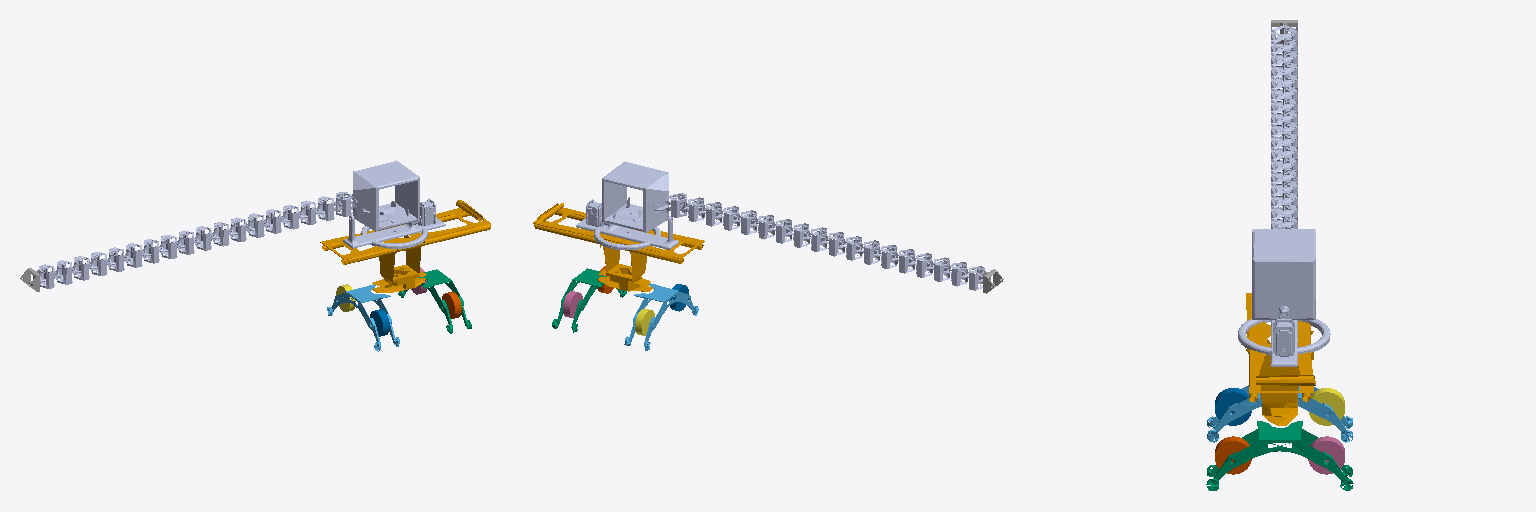
--- What the picture shows (computed from the rendered views, not written in the file) ---
The picture shows the robot from 3 angles, left to right: view 1: azimuth 30°, elevation 25°; view 2: azimuth 150°, elevation 25°; view 3: azimuth 270°, elevation 25°; orthographic projection.
Robot: prisma_snake — 31 links, 30 joints (20 revolute, 5 continuous, 5 fixed); root link uav_link; default pose: all joints at 0.
Links seen in each view (by area): view 1: uav_link, LMotor, LFrame, Rover_1, Rover_2; view 2: uav_link, LMotor, LFrame, Rover_1, Rover_2; view 3: LMotor, uav_link, Rover_2, LFrame, Rover_1, Wheel_dx_2, Wheel_sx_1, Wheel_sx_2, Wheel_dx_1.
Link boxes in pixels (x1,y1,x2,y2): uav_link: (320, 200, 490, 292); LMotor: (352, 160, 419, 231); LFrame: (343, 198, 445, 248); Rover_1: (327, 284, 399, 351); Rover_2: (398, 269, 471, 333); uav_link: (533, 203, 704, 291); LMotor: (602, 161, 668, 232); LFrame: (576, 199, 678, 249); Rover_1: (624, 283, 698, 350); Rover_2: (552, 268, 626, 332); LMotor: (1252, 229, 1315, 319); uav_link: (1246, 293, 1315, 425); Rover_2: (1206, 421, 1353, 490); LFrame: (1238, 306, 1330, 366); Rover_1: (1207, 385, 1352, 442); Wheel_dx_2: (1308, 436, 1344, 474); Wheel_sx_1: (1215, 388, 1251, 425); Wheel_sx_2: (1215, 436, 1251, 474); Wheel_dx_1: (1308, 388, 1344, 425).
Bounding box of the posed robot: 1.37 × 0.2765 × 0.4319 m (x, y, z).
Meshes: 10 distinct files referenced, 25 mesh visuals loaded (9 binary STL); not drawn: 1 (reference not matched to a file when rendering).

URDF robot description (prisma_snake):
<?xml version="1.0" encoding="utf-8"?>
<!-- =================================================================================== -->
<!-- |    This document was autogenerated by xacro from prisma_snake.xacro             | -->
<!-- |    EDITING THIS FILE BY HAND IS NOT RECOMMENDED                                 | -->
<!-- =================================================================================== -->
<!--Generates a urdf from the macro in kr120r2500pro_macro.xacro -->
<robot name="prisma_snake">
  <gazebo reference="camera_rgb_frame">
    <sensor name="$depth_camera" type="depth">
      <always_on>true</always_on>
      <update_rate>5.0</update_rate>
      <camera>
        <horizontal_fov>1.04</horizontal_fov>
        <!-- fov = filed of view 1.04-->
        <image>
          <format>L8</format>
          <width>320</width>
          <height>240</height>
        </image>
        <clip>
          <near>0.1</near>
          <far>2</far>
        </clip>
      </camera>
      <plugin filename="libgazebo_ros_openni_kinect.so" name="depth_camera_plugin">
        <alwaysOn>true</alwaysOn>
        <baseline>0.2</baseline>
        <updateRate>5.0</updateRate>
        <cameraName>depth_camera</cameraName>
        <imageTopicName>depth_camera/image_raw</imageTopicName>
        <cameraInfoTopicName>depth_camera/camera_info</cameraInfoTopicName>
        <depthImageTopicName>depth/disparity</depthImageTopicName>
        <depthImageCameraInfoTopicName>depth/camera_info</depthImageCameraInfoTopicName>
        <pointCloudTopicName>depth/points</pointCloudTopicName>
        <frameName>camera_rgb_optical_frame</frameName>
        <pointCloudCutoff>0.5</pointCloudCutoff>
        <pointCloudCutoffMax>3.0</pointCloudCutoffMax>
        <distortionK1>0.0</distortionK1>
        <distortionK2>0.0</distortionK2>
        <distortionK3>0.0</distortionK3>
        <distortionT1>0.0</distortionT1>
        <distortionT2>0.0</distortionT2>
      </plugin>
    </sensor>
  </gazebo>
  <!-- in kg-->
  <!-- in kg-->
  <!-- LINKS -->
  <!-- base link-->
  <!--
	<link name="world" />
 	-->
  <link name="uav_link">
    <inertial>
      <!--
		<origin rpy="0 0 0" xyz="0.2979303555193108 2.625110129346654e-07 0.31875747926595327"/>
		-->
      <origin rpy="0 0 0" xyz="0 0 0"/>
      <mass value="2.8"/>
      <inertia ixx="0.108" ixy="0.0" ixz="0.0" iyy="0.108" iyz="0.0" izz="0.108"/>
    </inertial>
    <visual>
      <origin rpy="0 0 0" xyz="0 0 0"/>
      <geometry>
        <mesh filename="package://prisma_snake_support_gazebo/meshes/drone_no_prop_no_sup_cu.stl" scale="0.0001 0.0001 0.0001"/>
      </geometry>
      <material name="silver"/>
    </visual>
    <collision>
      <origin rpy="0 0 0" xyz="0 0 0"/>
      <geometry>
        <mesh filename="package://prisma_snake_support_gazebo/meshes/drone_no_prop_no_sup_cu.stl" scale="0.0001 0.0001 0.0001"/>
      </geometry>
    </collision>
  </link>
  <link name="Rover_1">
    <inertial>
      <origin rpy="0 0 0" xyz="0 0 0"/>
      <mass value="1.2"/>
      <inertia ixx="0.01" ixy="0.0" ixz="0" iyy="0.01" iyz="0" izz="0.01"/>
    </inertial>
    <visual>
      <origin rpy="0 0 0" xyz="-0.2506 0.0 -0.1755"/>
      <geometry>
        <mesh filename="package://prisma_snake_support_gazebo/meshes/Rover_1_cu.stl" scale="0.001 0.001 0.001"/>
      </geometry>
      <material name="silver"/>
    </visual>
    <collision>
      <origin rpy="0 0 0" xyz="-0.2506 0.0 -0.1755"/>
      <geometry>
        <mesh filename="package://prisma_snake_support_gazebo/meshes/Rover_1_cu.stl" scale="0.001 0.001 0.001"/>
      </geometry>
      <contact_coefficients>
        <mu>0.1</mu>
        <kp>0.1</kp>
        <kd>0.1</kd>
      </contact_coefficients>
    </collision>
  </link>
  <link name="Rover_2">
    <inertial>
      <origin rpy="0 0 0" xyz="0 0 0"/>
      <mass value="1.2"/>
      <inertia ixx="0.01" ixy="0.0" ixz="0" iyy="0.01" iyz="0" izz="0.01"/>
    </inertial>
    <visual>
      <origin rpy="0 0 0" xyz="-0.3706 0.0 -0.1755"/>
      <geometry>
        <mesh filename="package://prisma_snake_support_gazebo/meshes/Rover_2_cu.stl" scale="0.001 0.001 0.001"/>
      </geometry>
      <material name="silver"/>
    </visual>
    <collision>
      <origin rpy="0 0 0" xyz="-0.3706 0.0 -0.1755"/>
      <geometry>
        <mesh filename="package://prisma_snake_support_gazebo/meshes/Rover_2_cu.stl" scale="0.001 0.001 0.001"/>
      </geometry>
      <!--
    <contact_coefficients>
          <mu>0.1</mu>
          <kp>0.1</kp>
          <kd>0.1</kd>
    </contact_coefficients>
 -->
    </collision>
  </link>
  <joint name="JointRoverFront" type="fixed">
    <origin rpy="0 0 0" xyz="-0.06 0.0 -0.07"/>
    <parent link="uav_link"/>
    <child link="Rover_1"/>
    <axis xyz="-0.0 -0.0 1.0"/>
  </joint>
  <joint name="JointRoverRetro" type="fixed">
    <origin rpy="0 0 0" xyz="0.06 0.0 -0.07"/>
    <parent link="uav_link"/>
    <child link="Rover_2"/>
    <axis xyz="-0.0 -0.0 1.0"/>
  </joint>
  <link name="Wheel_dx_1">
    <inertial>
      <origin rpy="1.57 0 1.57" xyz="-0.025 0.0 0"/>
      <mass value="1.35"/>
      <inertia ixx="0.0008" ixy="0.0" ixz="0.0" iyy="0.0008" iyz="0.0" izz="0.0008"/>
    </inertial>
    <visual>
      <origin rpy="1.57 0 1.57" xyz="-0.025 0.0 0"/>
      <geometry>
        <cylinder length="0.02" radius="0.035"/>
      </geometry>
      <material name="silver"/>
    </visual>
    <collision>
      <origin rpy="1.57 0 1.57" xyz="-0.025 0.0 0"/>
      <geometry>
        <cylinder length="0.02" radius="0.035"/>
      </geometry>
    </collision>
  </link>
  <joint name="JointWheel_F_sx" type="continuous">
    <limit effort="10000.0" lower="-1000" upper="1000" velocity="2000.0"/>
    <origin rpy="0 0 0" xyz="-0.024 0.087805 -0.043358"/>
    <parent link="Rover_1"/>
    <child link="Wheel_dx_1"/>
    <axis xyz="-1.0 -0.0 -0.0"/>
  </joint>
  <link name="Wheel_sx_1">
    <inertial>
      <origin rpy="1.57 0 1.57" xyz="-0.025 0.0 0"/>
      <mass value="1.35"/>
      <inertia ixx="0.0008" ixy="0.0" ixz="0.0" iyy="0.0008" iyz="0.0" izz="0.0008"/>
    </inertial>
    <visual>
      <origin rpy="1.57 0 1.57" xyz="-0.025 0.0 0"/>
      <geometry>
        <cylinder length="0.02" radius="0.035"/>
      </geometry>
      <material name="silver"/>
    </visual>
    <collision>
      <origin rpy="1.57 0 1.57" xyz="-0.025 0.0 0"/>
      <geometry>
        <cylinder length="0.02" radius="0.035"/>
      </geometry>
    </collision>
  </link>
  <joint name="JointWheel_F_dx" type="continuous">
    <limit effort="10000.0" lower="-1000" upper="1000" velocity="2000.0"/>
    <origin rpy="0 0 0" xyz="-0.024 -0.087805 -0.043358"/>
    <parent link="Rover_1"/>
    <child link="Wheel_sx_1"/>
    <axis xyz="-1.0 0.0 0.0"/>
  </joint>
  <link name="Wheel_sx_2">
    <inertial>
      <origin rpy="1.57 0 1.57" xyz="-0.025 0.0 0"/>
      <mass value="1.35"/>
      <inertia ixx="0.0008" ixy="0.0" ixz="0.0" iyy="0.0008" iyz="0.0" izz="0.0008"/>
    </inertial>
    <visual>
      <origin rpy="1.57 0 1.57" xyz="-0.025 0.0 0"/>
      <geometry>
        <cylinder length="0.02" radius="0.035"/>
      </geometry>
      <material name="silver"/>
    </visual>
    <collision>
      <origin rpy="1.57 0 1.57" xyz="-0.025 0.0 0"/>
      <geometry>
        <cylinder length="0.02" radius="0.035"/>
      </geometry>
    </collision>
  </link>
  <link name="Wheel_dx_2">
    <inertial>
      <origin rpy="0 0 0" xyz="-0.024031420359043487 -3.466334117102621e-07 4.034042055706122e-06"/>
      <mass value="1.35"/>
      <inertia ixx="0.0008" ixy="0.0" ixz="0.0" iyy="0.0008" iyz="0.0" izz="0.0008"/>
    </inertial>
    <visual>
      <origin rpy="1.57 0 1.57" xyz="-0.025 0.0 0"/>
      <geometry>
        <cylinder length="0.02" radius="0.035"/>
      </geometry>
      <material name="silver"/>
    </visual>
    <collision>
      <origin rpy="1.57 0 1.57" xyz="-0.02 0.0 0"/>
      <geometry>
        <cylinder length="0.02" radius="0.035"/>
      </geometry>
    </collision>
  </link>
  <joint name="JointWheel_R_dx" type="continuous">
    <limit effort="10000.0" lower="-1000" upper="1000" velocity="2000.0"/>
    <origin rpy="0 0 0" xyz="0.0722 0.087805 -0.043358"/>
    <parent link="Rover_2"/>
    <child link="Wheel_dx_2"/>
    <axis xyz="-1.0 -0.0 -0.0"/>
  </joint>
  <joint name="JointWheel_R_sx" type="continuous">
    <limit effort="10000.0" lower="-1000" upper="1000" velocity="2000.0"/>
    <origin rpy="0 0 0" xyz="0.0722 -0.087805 -0.043358"/>
    <parent link="Rover_2"/>
    <child link="Wheel_sx_2"/>
    <axis xyz="-1.0 0.0 0.0"/>
  </joint>
  <link name="base_footprint">
	</link>
  <joint name="base_footprint_joint" type="fixed">
    <origin rpy="0 0 0" xyz="0.0 0.0 -0.3"/>
    <parent link="uav_link"/>
    <child link="base_footprint"/>
  </joint>
  <link name="base_link">
    <inertial>
      <origin rpy="0 0 0" xyz="0.0 0.0 0.0"/>
      <mass value="0.01"/>
      <inertia ixx="0.01" ixy="0" ixz="0" iyy="0.01" iyz="0" izz="0.01"/>
    </inertial>
    <visual>
      <origin rpy="0 0 0" xyz="0 0 0"/>
      <geometry>
        <mesh filename="package://prisma_snake_support_gazebo/meshes/base_link.STL"/>
      </geometry>
      <material name="">
        <color rgba="0.792156862745098 0.819607843137255 0.933333333333333 1"/>
      </material>
    </visual>
    <collision>
      <origin rpy="0.00 0.00 0.00" xyz="0.00 0.00 0.00"/>
      <geometry>
        <mesh filename="package://prisma_snake_support_gazebo/meshes/base_link.STL"/>
      </geometry>
    </collision>
  </link>
  <joint name="base_footprint_base_link_joint" type="fixed">
    <origin rpy="3.14159 0 1.57079" xyz="-0.05 0.0  0.455"/>
    <parent link="base_footprint"/>
    <child link="base_link"/>
  </joint>
  <!--
	<joint
    name="uav_joint"
    type="fixed">
    <origin
      xyz="-0.05 0.0  0.155"
      rpy="3.1415 0.0 1.57" />
    <parent
      link="uav_link" />
    <child
      link="base_link" />
   </joint>
-->
  <link name="LFrame">
    <inertial>
      <origin rpy="0.00 0.00 0.00" xyz="-0.248469510078303 -0.563614377028206 0.1"/>
      <mass value="0.05180236101214"/>
      <inertia ixx="0.0" ixy="0.0" ixz="0.0" iyy="0.0" iyz="0.0" izz="0.0"/>
    </inertial>
    <visual>
      <origin rpy="0 0 0" xyz="0 0 0"/>
      <geometry>
        <mesh filename="package://prisma_snake_support_gazebo/meshes/LFrame.STL"/>
      </geometry>
      <material name="">
        <color rgba="0.792156862745098 0.819607843137255 0.933333333333333 1"/>
      </material>
    </visual>
    <collision>
      <origin rpy="0 0 0" xyz="0 0 0"/>
      <geometry>
        <mesh filename="package://prisma_snake_support_gazebo/meshes/LFrame.STL"/>
      </geometry>
    </collision>
  </link>
  <joint name="JFrame" type="continuous">
    <origin rpy="-1.570796 0 -1.570796" xyz="0.00772822 0.0399874 0"/>
    <parent link="base_link"/>
    <child link="LFrame"/>
    <axis xyz="0 1 0"/>
    <limit effort="10" velocity="1.57"/>
  </joint>
  <link name="LMotor">
    <inertial>
      <origin rpy="0 0 0" xyz="-0.01 -0.04 -0.04"/>
      <mass value="0.254048214605011"/>
      <inertia ixx="0.001" ixy="0.0" ixz="0.0" iyy="0.001" iyz="0.0" izz="0.001"/>
    </inertial>
    <visual>
      <origin rpy="0 0 0" xyz="0 0 0"/>
      <geometry>
        <mesh filename="package://prisma_snake_support_gazebo/meshes/LMotor_cu.stl"/>
      </geometry>
      <material name="">
        <color rgba="0.792156862745098 0.819607843137255 0.933333333333333 1"/>
      </material>
    </visual>
    <collision>
      <origin rpy="0 0 0" xyz="0 0 0"/>
      <geometry>
        <mesh filename="package://prisma_snake_support_gazebo/meshes/LMotor_cu.stl"/>
      </geometry>
    </collision>
  </link>
  <joint name="JMotor" type="revolute">
    <origin rpy="1.570796 1.570796 -1.570796" xyz="0 0 0"/>
    <parent link="LFrame"/>
    <child link="LMotor"/>
    <axis xyz="0 0 1"/>
    <limit effort="10" lower="-1.5707963267949" upper="1.5707963267949" velocity="1.57"/>
  </joint>
  <link name="L1">
    <inertial>
      <origin rpy="0 0 0" xyz="0.0258999036432844 0.0239999454766124 0"/>
      <mass value="0.0209796269968244"/>
      <inertia ixx="0.0" ixy="0.0" ixz="0.0" iyy="0.0" iyz="0.0" izz="0.0"/>
    </inertial>
    <visual>
      <origin rpy="0 0 0" xyz="0 0 0"/>
      <geometry>
        <mesh filename="package://prisma_snake_support_gazebo/meshes/L1.STL"/>
      </geometry>
      <material name="">
        <color rgba="0.792156862745098 0.819607843137255 0.933333333333333 1"/>
      </material>
    </visual>
    <collision>
      <origin rpy="0 0 0" xyz="0 0 0"/>
      <geometry>
        <mesh filename="package://prisma_snake_support_gazebo/meshes/L1.STL"/>
      </geometry>
    </collision>
  </link>
  <joint name="J1" type="fixed">
    <origin rpy="3.14159 1.570796 0" xyz="0 -0.0224478 -0.127545"/>
    <parent link="LMotor"/>
    <child link="L1"/>
  </joint>
  <link name="L2">
    <inertial>
      <origin rpy="0 0 0" xyz="0.0258999036432844 0.0239999454766124 0"/>
      <mass value="0.02"/>
      <inertia ixx="0.0006" ixy="0" ixz="0" iyy="0.0006" iyz="0" izz="0.0006"/>
    </inertial>
    <visual>
      <origin rpy="0 0 0" xyz="0 0 0"/>
      <geometry>
        <mesh filename="package://prisma_snake_support_gazebo/meshes/L2_cu.stl"/>
      </geometry>
      <material name="">
        <color rgba="0.792156862745098 0.819607843137255 0.933333333333333 1"/>
      </material>
    </visual>
    <collision>
      <origin rpy="0 0 0" xyz="0 0 0"/>
      <geometry>
        <mesh filename="package://prisma_snake_support_gazebo/meshes/L2_cu.stl"/>
      </geometry>
    </collision>
  </link>
  <joint name="J2" type="revolute">
    <origin rpy="0 0 0" xyz="0.0525 0 0"/>
    <parent link="L1"/>
    <child link="L2"/>
    <axis xyz="0 1 0"/>
    <limit effort="10" lower="-0.993998967010373" upper="1.10039613538283" velocity="1.57"/>
  </joint>
  <link name="L3">
    <inertial>
      <origin rpy="0 0 0" xyz="0.0258999036432844 0.0239999454766124 0"/>
      <mass value="0.02"/>
      <inertia ixx="0.0006" ixy="0" ixz="0" iyy="0.0006" iyz="0" izz="0.0006"/>
    </inertial>
    <visual>
      <origin rpy="0 0 0" xyz="0 0 0"/>
      <geometry>
        <mesh filename="package://prisma_snake_support_gazebo/meshes/L2_cu.stl"/>
      </geometry>
      <material name="">
        <color rgba="0.792156862745098 0.819607843137255 0.933333333333333 1"/>
      </material>
    </visual>
    <collision>
      <origin rpy="0 0 0" xyz="0 0 0"/>
      <geometry>
        <mesh filename="package://prisma_snake_support_gazebo/meshes/L2_cu.stl"/>
      </geometry>
    </collision>
  </link>
  <joint name="J3" type="revolute">
    <origin rpy="0 0 0" xyz="0.0525 0 0"/>
    <parent link="L2"/>
    <child link="L3"/>
    <axis xyz="0 1 0"/>
    <limit effort="10" lower="-1.03792338949131" upper="1.05647171290189" velocity="1.57"/>
  </joint>
  <link name="L4">
    <inertial>
      <origin rpy="0 0 0" xyz="0.0258999036432844 0.0239999454766124 0"/>
      <mass value="0.02"/>
      <inertia ixx="0.0006" ixy="0" ixz="0" iyy="0.0006" iyz="0" izz="0.0006"/>
    </inertial>
    <visual>
      <origin rpy="0 0 0" xyz="0 0 0"/>
      <geometry>
        <mesh filename="package://prisma_snake_support_gazebo/meshes/L2_cu.stl"/>
      </geometry>
      <material name="">
        <color rgba="0.792156862745098 0.819607843137255 0.933333333333333 1"/>
      </material>
    </visual>
    <collision>
      <origin rpy="0 0 0" xyz="0 0 0"/>
      <geometry>
        <mesh filename="package://prisma_snake_support_gazebo/meshes/L2_cu.stl"/>
      </geometry>
    </collision>
  </link>
  <joint name="J4" type="revolute">
    <origin rpy="0 0 0" xyz="0.0525 0 0"/>
    <parent link="L3"/>
    <child link="L4"/>
    <axis xyz="0 1 0"/>
    <limit effort="10" lower="-1.04855844307021" upper="1.04583665932299" velocity="1.57"/>
  </joint>
  <link name="L5">
    <inertial>
      <origin rpy="0 0 0" xyz="0.0258999036432844 0.0239999454766124 0"/>
      <mass value="0.02"/>
      <inertia ixx="0.0006" ixy="0" ixz="0" iyy="0.0006" iyz="0" izz="0.0006"/>
    </inertial>
    <visual>
      <origin rpy="0 0 0" xyz="0 0 0"/>
      <geometry>
        <mesh filename="package://prisma_snake_support_gazebo/meshes/L2_cu.stl"/>
      </geometry>
      <material name="">
        <color rgba="0.792156862745098 0.819607843137255 0.933333333333333 1"/>
      </material>
    </visual>
    <collision>
      <origin rpy="0 0 0" xyz="0 0 0"/>
      <geometry>
        <mesh filename="package://prisma_snake_support_gazebo/meshes/L2_cu.stl"/>
      </geometry>
    </collision>
  </link>
  <joint name="J5" type="revolute">
    <origin rpy="0 0 0" xyz="0.0525 0 0"/>
    <parent link="L4"/>
    <child link="L5"/>
    <axis xyz="0 1 0"/>
    <limit effort="10" lower="-1.04698399748418" upper="1.04741110490902" velocity="1.57"/>
  </joint>
  <link name="L6">
    <inertial>
      <origin rpy="0 0 0" xyz="0.0258999036432844 0.0239999454766124 0"/>
      <mass value="0.02"/>
      <inertia ixx="0.0006" ixy="0" ixz="0" iyy="0.0006" iyz="0" izz="0.0006"/>
    </inertial>
    <visual>
      <origin rpy="0 0 0" xyz="0 0 0"/>
      <geometry>
        <mesh filename="package://prisma_snake_support_gazebo/meshes/L2_cu.stl"/>
      </geometry>
      <material name="">
        <color rgba="0.792156862745098 0.819607843137255 0.933333333333333 1"/>
      </material>
    </visual>
    <collision>
      <origin rpy="0 0 0" xyz="0 0 0"/>
      <geometry>
        <mesh filename="package://prisma_snake_support_gazebo/meshes/L2_cu.stl"/>
      </geometry>
    </collision>
  </link>
  <joint name="J6" type="revolute">
    <origin rpy="0 0 0" xyz="0.0525 0 0"/>
    <parent link="L5"/>
    <child link="L6"/>
    <axis xyz="0 1 0"/>
    <limit effort="10" lower="-1.04721945595772" upper="1.04717564643548" velocity="1.57"/>
  </joint>
  <link name="L7">
    <inertial>
      <origin rpy="0 0 0" xyz="0.0258999036432844 0.0239999454766124 0"/>
      <mass value="0.02"/>
      <inertia ixx="0.0006" ixy="0" ixz="0" iyy="0.0006" iyz="0" izz="0.0006"/>
    </inertial>
    <visual>
      <origin rpy="0 0 0" xyz="0 0 0"/>
      <geometry>
        <mesh filename="package://prisma_snake_support_gazebo/meshes/L2_cu.stl"/>
      </geometry>
      <material name="">
        <color rgba="0.792156862745098 0.819607843137255 0.933333333333333 1"/>
      </material>
    </visual>
    <collision>
      <origin rpy="0 0 0" xyz="0 0 0"/>
      <geometry>
        <mesh filename="package://prisma_snake_support_gazebo/meshes/L2_cu.stl"/>
      </geometry>
    </collision>
  </link>
  <joint name="J7" type="revolute">
    <origin rpy="0 0 0" xyz="0.0525 0 0"/>
    <parent link="L6"/>
    <child link="L7"/>
    <axis xyz="0 1 0"/>
    <limit effort="10" lower="-1.04719556326231" upper="1.04719953913089" velocity="1.57"/>
  </joint>
  <link name="L8">
    <inertial>
      <origin rpy="0 0 0" xyz="0.0258999036432844 0.0239999454766124 0"/>
      <mass value="0.02"/>
      <inertia ixx="0.0006" ixy="0" ixz="0" iyy="0.0006" iyz="0" izz="0.0006"/>
    </inertial>
    <visual>
      <origin rpy="0 0 0" xyz="0 0 0"/>
      <geometry>
        <mesh filename="package://prisma_snake_support_gazebo/meshes/L2_cu.stl"/>
      </geometry>
      <material name="">
        <color rgba="0.792156862745098 0.819607843137255 0.933333333333333 1"/>
      </material>
    </visual>
    <collision>
      <origin rpy="0 0 0" xyz="0 0 0"/>
      <geometry>
        <mesh filename="package://prisma_snake_support_gazebo/meshes/L2_cu.stl"/>
      </geometry>
    </collision>
  </link>
  <joint name="J8" type="revolute">
    <origin rpy="0 0 0" xyz="0.0525 0 0"/>
    <parent link="L7"/>
    <child link="L8"/>
    <axis xyz="0 1 0"/>
    <limit effort="10" lower="-1.04719770565085" upper="1.04719739674235" velocity="1.57"/>
  </joint>
  <link name="L9">
    <inertial>
      <origin rpy="0 0 0" xyz="0.0258999036432844 0.0239999454766124 0"/>
      <mass value="0.02"/>
      <inertia ixx="0.0006" ixy="0" ixz="0" iyy="0.0006" iyz="0" izz="0.0006"/>
    </inertial>
    <visual>
      <origin rpy="0 0 0" xyz="0 0 0"/>
      <geometry>
        <mesh filename="package://prisma_snake_support_gazebo/meshes/L2_cu.stl"/>
      </geometry>
      <material name="">
        <color rgba="0.792156862745098 0.819607843137255 0.933333333333333 1"/>
      </material>
    </visual>
    <collision>
      <origin rpy="0 0 0" xyz="0 0 0"/>
      <geometry>
        <mesh filename="package://prisma_snake_support_gazebo/meshes/L2_cu.stl"/>
      </geometry>
    </collision>
  </link>
  <joint name="J9" type="revolute">
    <origin rpy="0 0 0" xyz="0.0525 0 0"/>
    <parent link="L8"/>
    <child link="L9"/>
    <axis xyz="0 1 0"/>
    <limit effort="10" lower="-1.04719754030642" upper="1.04719756208678" velocity="1.57"/>
  </joint>
  <link name="L10">
    <inertial>
      <origin rpy="0 0 0" xyz="0.0258999036432844 0.0239999454766124 0"/>
      <mass value="0.02"/>
      <inertia ixx="0.0006" ixy="0" ixz="0" iyy="0.0006" iyz="0" izz="0.0006"/>
    </inertial>
    <visual>
      <origin rpy="0 0 0" xyz="0 0 0"/>
      <geometry>
        <mesh filename="package://prisma_snake_support_gazebo/meshes/L2_cu.stl"/>
      </geometry>
      <material name="">
        <color rgba="0.792156862745098 0.819607843137255 0.933333333333333 1"/>
      </material>
    </visual>
    <collision>
      <origin rpy="0 0 0" xyz="0 0 0"/>
      <geometry>
        <mesh filename="package://prisma_snake_support_gazebo/meshes/L2_cu.stl"/>
      </geometry>
    </collision>
  </link>
  <joint name="J10" type="revolute">
    <origin rpy="0 0 0" xyz="0.0525 0 0"/>
    <parent link="L9"/>
    <child link="L10"/>
    <axis xyz="0 1 0"/>
    <limit effort="10" lower="-1.04719755188937" upper="1.04719755050383" velocity="1.57"/>
  </joint>
  <link name="L11">
    <inertial>
      <origin rpy="0 0 0" xyz="0.0258999036432844 0.0239999454766124 0"/>
      <mass value="0.02"/>
      <inertia ixx="0.0006" ixy="0" ixz="0" iyy="0.0006" iyz="0" izz="0.0006"/>
    </inertial>
    <visual>
      <origin rpy="0 0 0" xyz="0 0 0"/>
      <geometry>
        <mesh filename="package://prisma_snake_support_gazebo/meshes/L2_cu.stl"/>
      </geometry>
      <material name="">
        <color rgba="0.792156862745098 0.819607843137255 0.933333333333333 1"/>
      </material>
    </visual>
    <collision>
      <origin rpy="0 0 0" xyz="0 0 0"/>
      <geometry>
        <mesh filename="package://prisma_snake_support_gazebo/meshes/L2_cu.stl"/>
      </geometry>
    </collision>
  </link>
  <joint name="J11" type="revolute">
    <origin rpy="0 0 0" xyz="0.0525 0 0"/>
    <parent link="L10"/>
    <child link="L11"/>
    <axis xyz="0 1 0"/>
    <limit effort="10" lower="-1.04719755115998" upper="1.04719755123322" velocity="1.57"/>
  </joint>
  <link name="L12">
    <inertial>
      <origin rpy="0 0 0" xyz="0.0258999036432844 0.0239999454766124 0"/>
      <mass value="0.02"/>
      <inertia ixx="0.0006" ixy="0" ixz="0" iyy="0.0006" iyz="0" izz="0.0006"/>
    </inertial>
    <visual>
      <origin rpy="0 0 0" xyz="0 0 0"/>
      <geometry>
        <mesh filename="package://prisma_snake_support_gazebo/meshes/L2_cu.stl"/>
      </geometry>
      <material name="">
        <color rgba="0.792156862745098 0.819607843137255 0.933333333333333 1"/>
      </material>
    </visual>
    <collision>
      <origin rpy="0 0 0" xyz="0 0 0"/>
      <geometry>
        <mesh filename="package://prisma_snake_support_gazebo/meshes/L2_cu.stl"/>
      </geometry>
    </collision>
  </link>
  <joint name="J12" type="revolute">
    <origin rpy="0 0 0" xyz="0.0525 0 0"/>
    <parent link="L11"/>
    <child link="L12"/>
    <axis xyz="0 1 0"/>
    <limit effort="10" lower="-1.04719755119664" upper="1.04719755119656" velocity="1.57"/>
  </joint>
  <link name="L13">
    <inertial>
      <origin rpy="0 0 0" xyz="0.0258999036432844 0.0239999454766124 0"/>
      <mass value="0.02"/>
      <inertia ixx="0.0006" ixy="0" ixz="0" iyy="0.0006" iyz="0" izz="0.0006"/>
    </inertial>
    <visual>
      <origin rpy="0 0 0" xyz="0 0 0"/>
      <geometry>
        <mesh filename="package://prisma_snake_support_gazebo/meshes/L2_cu.stl"/>
      </geometry>
      <material name="">
        <color rgba="0.792156862745098 0.819607843137255 0.933333333333333 1"/>
      </material>
    </visual>
    <collision>
      <origin rpy="0 0 0" xyz="0 0 0"/>
      <geometry>
        <mesh filename="package://prisma_snake_support_gazebo/meshes/L2_cu.stl"/>
      </geometry>
    </collision>
  </link>
  <joint name="J13" type="revolute">
    <origin rpy="0 0 0" xyz="0.0525 0 0"/>
    <parent link="L12"/>
    <child link="L13"/>
    <axis xyz="0 1 0"/>
    <limit effort="10" lower="-1.04719755119646" upper="1.04719755119674" velocity="1.57"/>
  </joint>
  <link name="L14">
    <inertial>
      <origin rpy="0 0 0" xyz="0.0258999036432844 0.0239999454766124 0"/>
      <mass value="0.02"/>
      <inertia ixx="0.0006" ixy="0" ixz="0" iyy="0.0006" iyz="0" izz="0.0006"/>
    </inertial>
    <visual>
      <origin rpy="0 0 0" xyz="0 0 0"/>
      <geometry>
        <mesh filename="package://prisma_snake_support_gazebo/meshes/L2_cu.stl"/>
      </geometry>
      <material name="">
        <color rgba="0.792156862745098 0.819607843137255 0.933333333333333 1"/>
      </material>
    </visual>
    <collision>
      <origin rpy="0 0 0" xyz="0 0 0"/>
      <geometry>
        <mesh filename="package://prisma_snake_support_gazebo/meshes/L2_cu.stl"/>
      </geometry>
    </collision>
  </link>
  <joint name="J14" type="revolute">
    <origin rpy="0 0 0" xyz="0.0525 0 0"/>
    <parent link="L13"/>
    <child link="L14"/>
    <axis xyz="0 1 0"/>
    <limit effort="10" lower="-1.04719755119664" upper="1.04719755119656" velocity="1.57"/>
  </joint>
  <link name="L15">
    <inertial>
      <origin rpy="0 0 0" xyz="0.0258999036432844 0.0239999454766124 0"/>
      <mass value="0.02"/>
      <inertia ixx="0.0006" ixy="0" ixz="0" iyy="0.0006" iyz="0" izz="0.0006"/>
    </inertial>
    <visual>
      <origin rpy="0 0 0" xyz="0 0 0"/>
      <geometry>
        <mesh filename="package://prisma_snake_support_gazebo/meshes/L2_cu.stl"/>
      </geometry>
      <material name="">
        <color rgba="0.792156862745098 0.819607843137255 0.933333333333333 1"/>
      </material>
    </visual>
    <collision>
      <origin rpy="0 0 0" xyz="0 0 0"/>
      <geometry>
        <mesh filename="package://prisma_snake_support_gazebo/meshes/L2_cu.stl"/>
      </geometry>
    </collision>
  </link>
  <joint name="J15" type="revolute">
    <origin rpy="0 0 0" xyz="0.0525 0 0"/>
    <parent link="L14"/>
    <child link="L15"/>
    <axis xyz="0 1 0"/>
    <limit effort="10" lower="-1.04719755119646" upper="1.04719755119674" velocity="1.57"/>
  </joint>
  <link name="L16">
    <inertial>
      <origin rpy="0 0 0" xyz="0.0258999036432844 0.0239999454766124 0"/>
      <mass value="0.02"/>
      <inertia ixx="0.0006" ixy="0" ixz="0" iyy="0.0006" iyz="0" izz="0.0006"/>
    </inertial>
    <visual>
      <origin rpy="0 0 0" xyz="0 0 0"/>
      <geometry>
        <mesh filename="package://prisma_snake_support_gazebo/meshes/L2_cu.stl"/>
      </geometry>
      <material name="">
        <color rgba="0.792156862745098 0.819607843137255 0.933333333333333 1"/>
      </material>
    </visual>
    <collision>
      <origin rpy="0 0 0" xyz="0 0 0"/>
      <geometry>
        <mesh filename="package://prisma_snake_support_gazebo/meshes/L2_cu.stl"/>
      </geometry>
    </collision>
  </link>
  <joint name="J16" type="revolute">
    <origin rpy="0 0 0" xyz="0.0525 0 0"/>
    <parent link="L15"/>
    <child link="L16"/>
    <axis xyz="0 1 0"/>
    <limit effort="10" lower="-1.04719755119664" upper="1.04719755119656" velocity="1.57"/>
  </joint>
  <link name="L17">
    <inertial>
      <origin rpy="0 0 0" xyz="0.0258999036432844 0.0239999454766124 0"/>
      <mass value="0.02"/>
      <inertia ixx="0.0006" ixy="0" ixz="0" iyy="0.0006" iyz="0" izz="0.0006"/>
    </inertial>
    <visual>
      <origin rpy="0 0 0" xyz="0 0 0"/>
      <geometry>
        <mesh filename="package://prisma_snake_support_gazebo/meshes/L2_cu.stl"/>
      </geometry>
      <material name="">
        <color rgba="0.792156862745098 0.819607843137255 0.933333333333333 1"/>
      </material>
    </visual>
    <collision>
      <origin rpy="0 0 0" xyz="0 0 0"/>
      <geometry>
        <mesh filename="package://prisma_snake_support_gazebo/meshes/L2_cu.stl"/>
      </geometry>
    </collision>
  </link>
  <joint name="J17" type="revolute">
    <origin rpy="0 0 0" xyz="0.0525 0 0"/>
    <parent link="L16"/>
    <child link="L17"/>
    <axis xyz="0 1 0"/>
    <limit effort="10" lower="-1.04719755119646" upper="1.04719755119674" velocity="1.57"/>
  </joint>
  <link name="L18">
    <inertial>
      <origin rpy="0 0 0" xyz="0.0258999036432844 0.0239999454766124 0"/>
      <mass value="0.02"/>
      <inertia ixx="0.0006" ixy="0" ixz="0" iyy="0.0006" iyz="0" izz="0.0006"/>
    </inertial>
    <visual>
      <origin rpy="0 0 0" xyz="0 0 0"/>
      <geometry>
        <mesh filename="package://prisma_snake_support_gazebo/meshes/L2_cu.stl"/>
      </geometry>
      <material name="">
        <color rgba="0.792156862745098 0.819607843137255 0.933333333333333 1"/>
      </material>
    </visual>
    <collision>
      <origin rpy="0 0 0" xyz="0 0 0"/>
      <geometry>
        <mesh filename="package://prisma_snake_support_gazebo/meshes/L2_cu.stl"/>
      </geometry>
    </collision>
  </link>
  <joint name="J18" type="revolute">
    <origin rpy="0 0 0" xyz="0.0525 0 0"/>
    <parent link="L17"/>
    <child link="L18"/>
    <axis xyz="0 1 0"/>
    <limit effort="10" lower="-1.04719755119664" upper="1.04719755119656" velocity="1.57"/>
  </joint>
  <link name="L20">
    <inertial>
      <origin rpy="0 0 0" xyz="0.0258999036432844 0.0239999454766124 0"/>
      <mass value="0.02"/>
      <inertia ixx="0.0006" ixy="0" ixz="0" iyy="0.0006" iyz="0" izz="0.0006"/>
    </inertial>
    <visual>
      <origin rpy="0 0 0" xyz="0 0 0"/>
      <geometry>
        <mesh filename="package://prisma_snake_support_gazebo/meshes/L20.STL"/>
      </geometry>
      <material name="">
        <color rgba="0.698039215686274 0.698039215686274 0.698039215686274 1"/>
      </material>
    </visual>
    <collision>
      <origin rpy="0 0 0" xyz="0 0 0"/>
      <geometry>
        <mesh filename="package://prisma_snake_support_gazebo/meshes/L20.STL"/>
      </geometry>
    </collision>
  </link>
  <joint name="J20" type="revolute">
    <origin rpy="3.14159 -1.570796 -3.14159" xyz="0.0525 0 0"/>
    <parent link="L18"/>
    <child link="L20"/>
    <axis xyz="0 1 0"/>
    <limit effort="10" lower="-1.07730497228435" upper="1.01709013010885" velocity="1.57"/>
  </joint>
  <!--
		xyz="0.000801942613792017 3.73115540755475E-08 -0.00846677202059798"
		-->
  <link name="Probe">
    <inertial>
      <origin rpy="0 0 0" xyz="0.0 0 0"/>
      <mass value="0.02"/>
      <inertia ixx="0.0006" ixy="0" ixz="0" iyy="0.0006" iyz="0" izz="0.0006"/>
    </inertial>
    <visual>
      <origin rpy="0 0 0" xyz="0 0 0"/>
      <geometry>
        <mesh filename="package://prisma_snake_support_gazebo/meshes/Probe.STL"/>
      </geometry>
      <material name="">
        <color rgba="0.792156862745098 0.819607843137255 0.933333333333333 1"/>
      </material>
    </visual>
    <collision>
      <origin rpy="0 0 0" xyz="0 0 0"/>
      <geometry>
        <mesh filename="package://prisma_snake_support_gazebo/meshes/Probe.STL"/>
      </geometry>
    </collision>
  </link>
  <joint name="Probe_joint" type="revolute">
    <origin rpy="0 0 0" xyz="0 0.0239999 -0.033"/>
    <parent link="L20"/>
    <child link="Probe"/>
    <axis xyz="1 0 0"/>
    <limit effort="10" lower="-1.39626340159547" upper="1.39626340159547" velocity="1.57"/>
  </joint>
  <transmission name="tran1">
    <type>transmission_interface/SimpleTransmission</type>
    <joint name="JFrame">
      <hardwareInterface>hardware_interface/PositionJointInterface</hardwareInterface>
    </joint>
    <actuator name="motor1">
      <mechanicalReduction>1</mechanicalReduction>
    </actuator>
  </transmission>
  <transmission name="tran1">
    <type>transmission_interface/SimpleTransmission</type>
    <joint name="JMotor">
      <hardwareInterface>hardware_interface/PositionJointInterface</hardwareInterface>
    </joint>
    <actuator name="motor1">
      <mechanicalReduction>1</mechanicalReduction>
    </actuator>
  </transmission>
  <transmission name="tran1">
    <type>transmission_interface/SimpleTransmission</type>
    <joint name="J2">
      <hardwareInterface>hardware_interface/PositionJointInterface</hardwareInterface>
    </joint>
    <actuator name="motor1">
      <mechanicalReduction>1</mechanicalReduction>
    </actuator>
  </transmission>
  <transmission name="tran1">
    <type>transmission_interface/SimpleTransmission</type>
    <joint name="J3">
      <hardwareInterface>hardware_interface/PositionJointInterface</hardwareInterface>
    </joint>
    <actuator name="motor1">
      <mechanicalReduction>1</mechanicalReduction>
    </actuator>
  </transmission>
  <transmission name="tran1">
    <type>transmission_interface/SimpleTransmission</type>
    <joint name="J4">
      <hardwareInterface>hardware_interface/PositionJointInterface</hardwareInterface>
    </joint>
    <actuator name="motor1">
      <mechanicalReduction>1</mechanicalReduction>
    </actuator>
  </transmission>
  <transmission name="tran1">
    <type>transmission_interface/SimpleTransmission</type>
    <joint name="J5">
      <hardwareInterface>hardware_interface/PositionJointInterface</hardwareInterface>
    </joint>
    <actuator name="motor1">
      <mechanicalReduction>1</mechanicalReduction>
    </actuator>
  </transmission>
  <transmission name="tran1">
    <type>transmission_interface/SimpleTransmission</type>
    <joint name="J6">
      <hardwareInterface>hardware_interface/PositionJointInterface</hardwareInterface>
    </joint>
    <actuator name="motor1">
      <mechanicalReduction>1</mechanicalReduction>
    </actuator>
  </transmission>
  <transmission name="tran1">
    <type>transmission_interface/SimpleTransmission</type>
    <joint name="J7">
      <hardwareInterface>hardware_interface/PositionJointInterface</hardwareInterface>
    </joint>
    <actuator name="motor1">
      <mechanicalReduction>1</mechanicalReduction>
    </actuator>
  </transmission>
  <transmission name="tran1">
    <type>transmission_interface/SimpleTransmission</type>
    <joint name="J8">
      <hardwareInterface>hardware_interface/PositionJointInterface</hardwareInterface>
    </joint>
    <actuator name="motor1">
      <mechanicalReduction>1</mechanicalReduction>
    </actuator>
  </transmission>
  <transmission name="tran1">
    <type>transmission_interface/SimpleTransmission</type>
    <joint name="J9">
      <hardwareInterface>hardware_interface/PositionJointInterface</hardwareInterface>
    </joint>
    <actuator name="motor1">
      <mechanicalReduction>1</mechanicalReduction>
    </actuator>
  </transmission>
  <transmission name="tran1">
    <type>transmission_interface/SimpleTransmission</type>
    <joint name="J10">
      <hardwareInterface>hardware_interface/PositionJointInterface</hardwareInterface>
    </joint>
    <actuator name="motor1">
      <mechanicalReduction>1</mechanicalReduction>
    </actuator>
  </transmission>
  <transmission name="tran1">
    <type>transmission_interface/SimpleTransmission</type>
    <joint name="J11">
      <hardwareInterface>hardware_interface/PositionJointInterface</hardwareInterface>
    </joint>
    <actuator name="motor1">
      <mechanicalReduction>1</mechanicalReduction>
    </actuator>
  </transmission>
  <transmission name="tran1">
    <type>transmission_interface/SimpleTransmission</type>
    <joint name="J12">
      <hardwareInterface>hardware_interface/PositionJointInterface</hardwareInterface>
    </joint>
    <actuator name="motor1">
      <mechanicalReduction>1</mechanicalReduction>
    </actuator>
  </transmission>
  <transmission name="tran1">
    <type>transmission_interface/SimpleTransmission</type>
    <joint name="J13">
      <hardwareInterface>hardware_interface/PositionJointInterface</hardwareInterface>
    </joint>
    <actuator name="motor1">
      <mechanicalReduction>1</mechanicalReduction>
    </actuator>
  </transmission>
  <transmission name="tran1">
    <type>transmission_interface/SimpleTransmission</type>
    <joint name="J14">
      <hardwareInterface>hardware_interface/PositionJointInterface</hardwareInterface>
    </joint>
    <actuator name="motor1">
      <mechanicalReduction>1</mechanicalReduction>
    </actuator>
  </transmission>
  <transmission name="tran1">
    <type>transmission_interface/SimpleTransmission</type>
    <joint name="J15">
      <hardwareInterface>hardware_interface/PositionJointInterface</hardwareInterface>
    </joint>
    <actuator name="motor1">
      <mechanicalReduction>1</mechanicalReduction>
    </actuator>
  </transmission>
  <transmission name="tran1">
    <type>transmission_interface/SimpleTransmission</type>
    <joint name="J16">
      <hardwareInterface>hardware_interface/PositionJointInterface</hardwareInterface>
    </joint>
    <actuator name="motor1">
      <mechanicalReduction>1</mechanicalReduction>
    </actuator>
  </transmission>
  <transmission name="tran1">
    <type>transmission_interface/SimpleTransmission</type>
    <joint name="J17">
      <hardwareInterface>hardware_interface/PositionJointInterface</hardwareInterface>
    </joint>
    <actuator name="motor1">
      <mechanicalReduction>1</mechanicalReduction>
    </actuator>
  </transmission>
  <transmission name="tran1">
    <type>transmission_interface/SimpleTransmission</type>
    <joint name="J18">
      <hardwareInterface>hardware_interface/PositionJointInterface</hardwareInterface>
    </joint>
    <actuator name="motor1">
      <mechanicalReduction>1</mechanicalReduction>
    </actuator>
  </transmission>
  <transmission name="tran1">
    <type>transmission_interface/SimpleTransmission</type>
    <joint name="J20">
      <hardwareInterface>hardware_interface/PositionJointInterface</hardwareInterface>
    </joint>
    <actuator name="motor1">
      <mechanicalReduction>1</mechanicalReduction>
    </actuator>
  </transmission>
  <transmission name="tran1">
    <type>transmission_interface/SimpleTransmission</type>
    <joint name="Probe">
      <hardwareInterface>hardware_interface/PositionJointInterface</hardwareInterface>
    </joint>
    <actuator name="motor1">
      <mechanicalReduction>1</mechanicalReduction>
    </actuator>
  </transmission>
  <transmission name="tran2">
    <type>transmission_interface/SimpleTransmission</type>
    <joint name="JointWheel_F_dx">
      <hardwareInterface>hardware_interface/EffortJointInterface</hardwareInterface>
    </joint>
    <actuator name="motor1">
      <hardwareInterface>hardware_interface/EffortJointInterface</hardwareInterface>
      <mechanicalReduction>1</mechanicalReduction>
    </actuator>
  </transmission>
  <transmission name="tran2">
    <type>transmission_interface/SimpleTransmission</type>
    <joint name="JointWheel_F_sx">
      <hardwareInterface>hardware_interface/EffortJointInterface</hardwareInterface>
    </joint>
    <actuator name="motor1">
      <hardwareInterface>hardware_interface/EffortJointInterface</hardwareInterface>
      <mechanicalReduction>1</mechanicalReduction>
    </actuator>
  </transmission>
  <transmission name="tran2">
    <type>transmission_interface/SimpleTransmission</type>
    <joint name="JointWheel_R_dx">
      <hardwareInterface>hardware_interface/EffortJointInterface</hardwareInterface>
    </joint>
    <actuator name="motor1">
      <hardwareInterface>hardware_interface/EffortJointInterface</hardwareInterface>
      <mechanicalReduction>1</mechanicalReduction>
    </actuator>
  </transmission>
  <transmission name="tran2">
    <type>transmission_interface/SimpleTransmission</type>
    <joint name="JointWheel_R_sx">
      <hardwareInterface>hardware_interface/EffortJointInterface</hardwareInterface>
    </joint>
    <actuator name="motor1">
      <hardwareInterface>hardware_interface/EffortJointInterface</hardwareInterface>
      <mechanicalReduction>1</mechanicalReduction>
    </actuator>
  </transmission>
  <!--  <link name="depth_sensor_link">-->
  <!--    <visual>-->
  <!--      <origin xyz="0.0 0 0.0" rpy="0 0 0"/>-->
  <!--      -->
  <!--      <geometry>-->
  <!--        <box size="0.01 0.03 0.01"/>-->
  <!--      </geometry>-->
  <!--    <material name="orange"/>-->
  <!--    </visual>-->
  <!--  </link>-->
  <!--  <joint name="depth_sensor_joint" type="fixed">-->
  <!--		<parent link="L20" />-->
  <!--		<child link="depth_sensor_link" />-->
  <!--		<origin xyz="0.1 0.03 0.05" rpy="0 1.57 0"/>-->
  <!--	</joint>-->
  <!--	<xacro:include filename="$(find prisma_snake_support_gazebo)/urdf/kinect_macro.xacro" />-->
  <!--	<xacro:kinect parent="depth_sensor_link">-->
  <!--	</xacro:kinect>-->
  <gazebo>
    <plugin filename="libgazebo_ros_control.so" name="gazebo_ros_control">
      <robotNamespace>/prisma_snake</robotNamespace>
    </plugin>
  </gazebo>
</robot>
